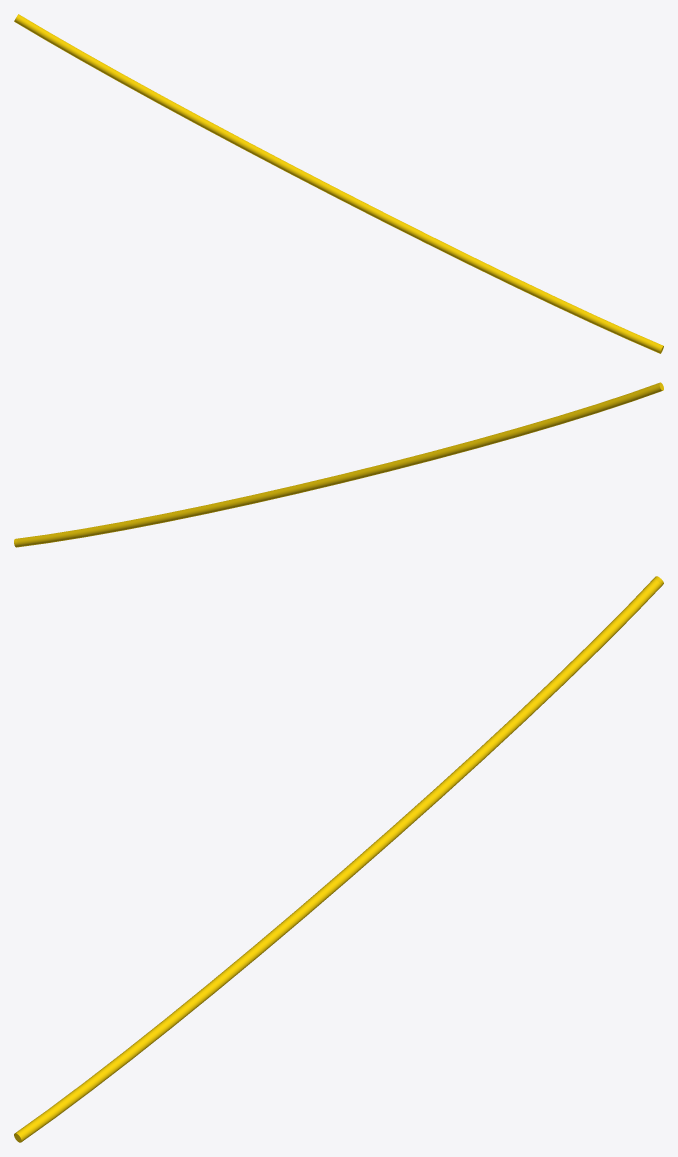
Rendered from Event_421556567_track_21.fbx.
3 renders of one model, top to bottom at view 1: azimuth 30°, elevation 25°; view 2: azimuth 210°, elevation 25°; view 3: azimuth 270°, elevation 25°, orthographic. The views are drawn at different scales.
Parts seen in each view (by area): view 1: Model; view 2: Model; view 3: Model.
Part boxes in pixels (x1,y1,x2,y2): Model: [14, 14, 663, 353]; Model: [14, 382, 663, 547]; Model: [14, 576, 663, 1142].
Bounding box in the file's own units: 2.11 × 1.26 × 2.32.
